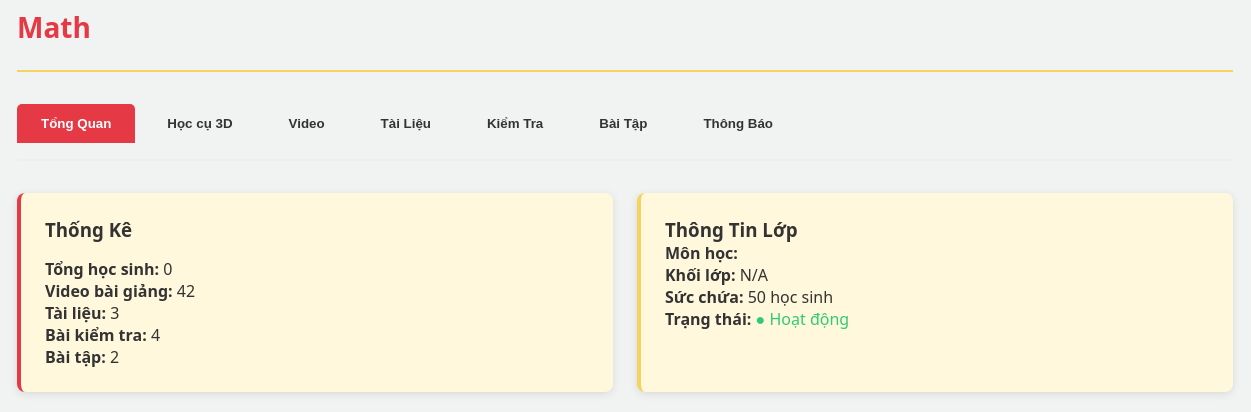
Test: loads resources on demand, uses real totals and retains a previously opened tab
The image size is (1251, 412).
Click the button "Video" at (307, 124), box [264, 104, 349, 143]
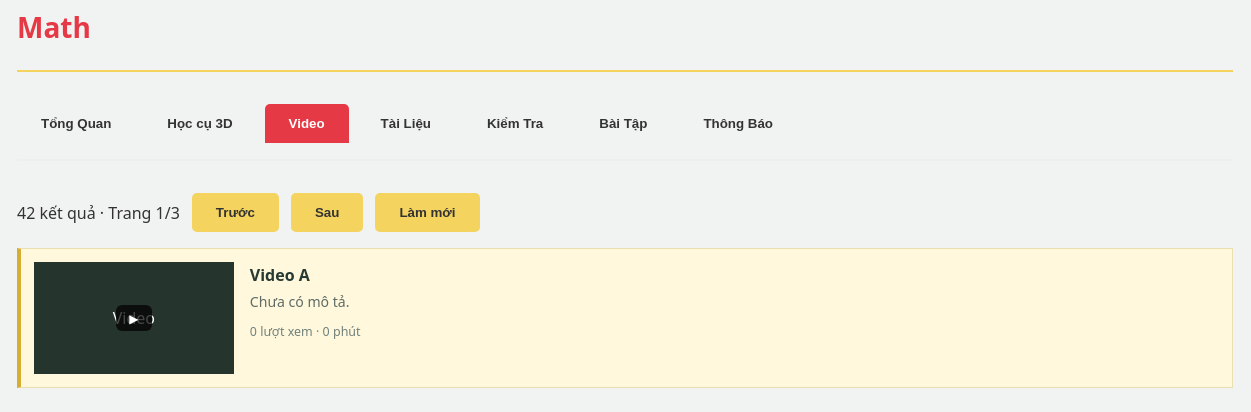
Now the text "Video A" is shown, box [250, 264, 310, 287]
Click the button "Tổng Quan" at (76, 124), box [17, 104, 135, 143]
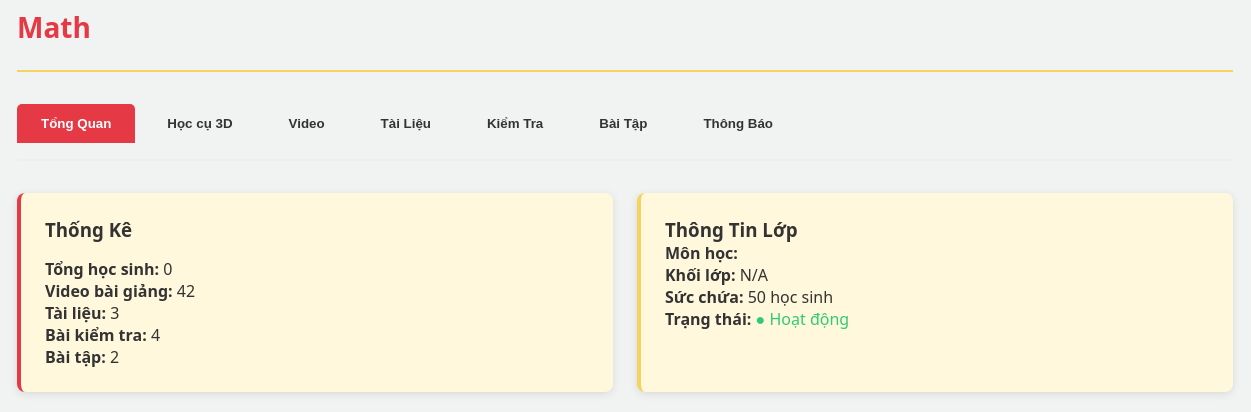
Click the button "Video" at (307, 124), box [264, 104, 349, 143]
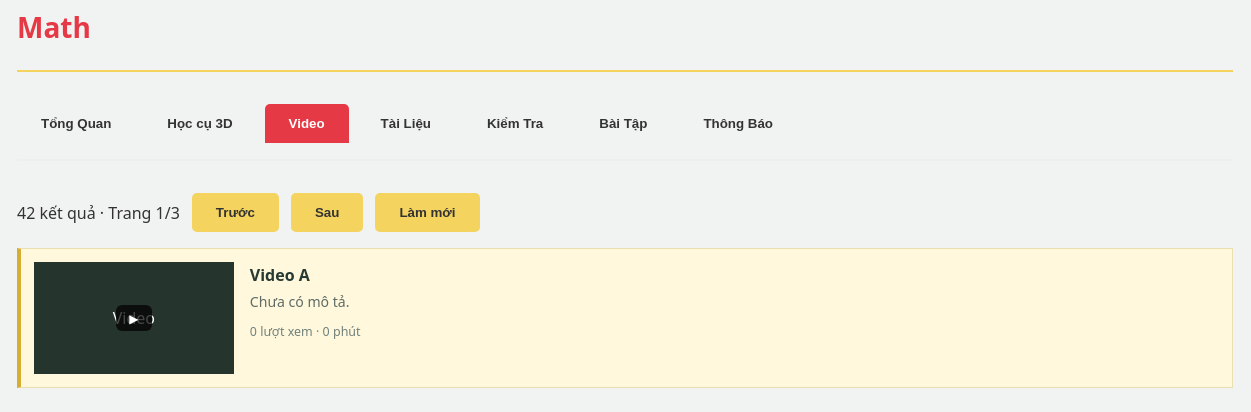
Now the text "42 kết quả" is shown, box [17, 202, 180, 224]
